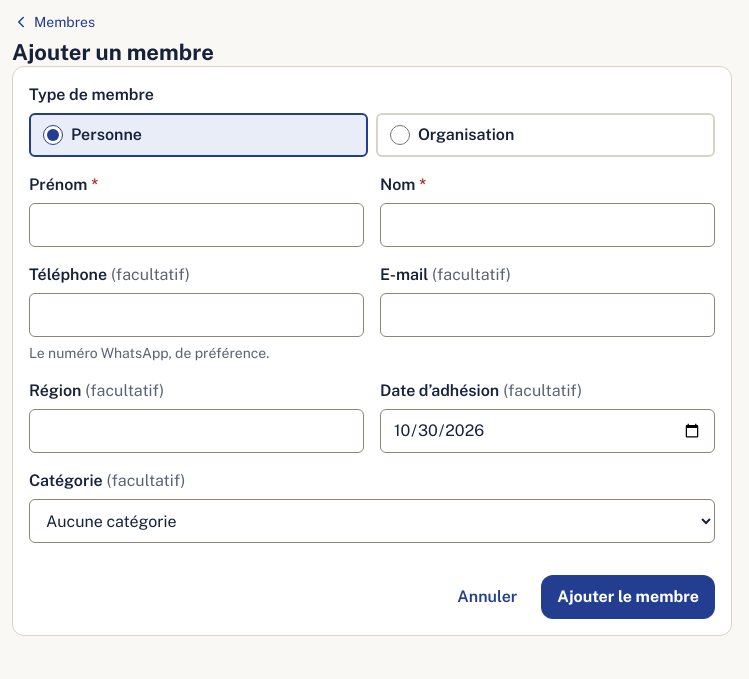
Scenario: B6 — prénom et nom, ou raison sociale › respecte le 422 du serveur : le champ désigné, en français
Step 1. Type "Awa" into the field labelled "Prénom *" → (196, 225), box [29,203,364,247]
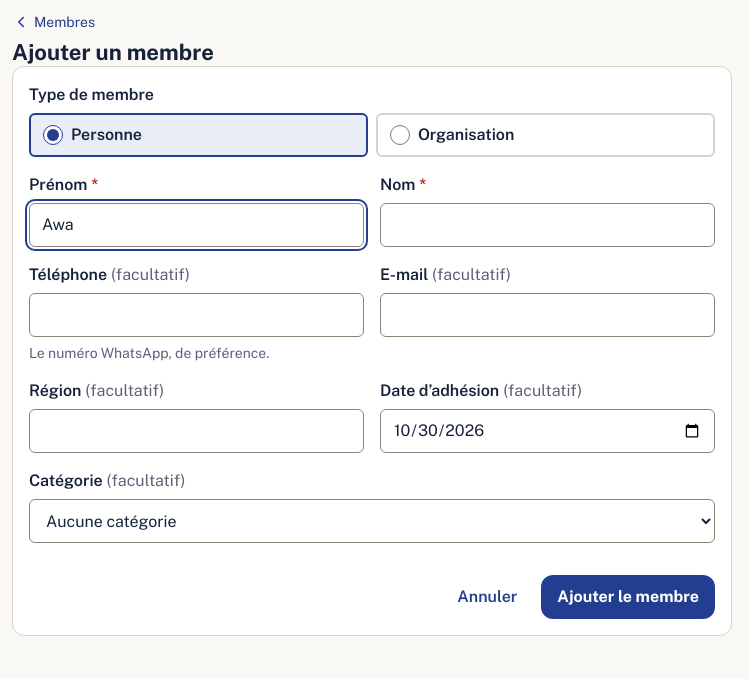
Step 2. Type "Ba" into the field labelled "Nom *" → (548, 225), box [380,203,715,247]
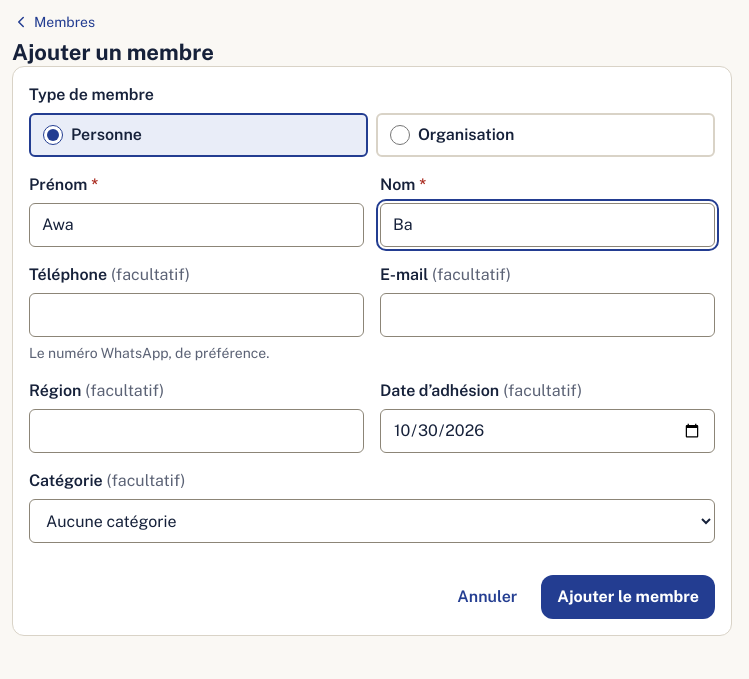
Step 3. Click the button "Ajouter le membre" → (628, 597), box [541,575,715,619]
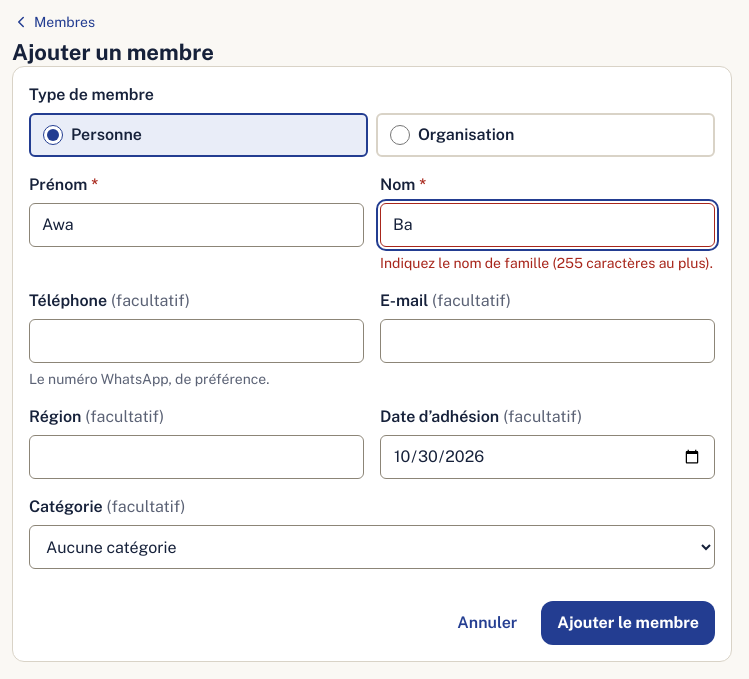
Expected: the text "Indiquez le nom de famille (255 caractères au plus)." is shown, [380,253,715,273]
